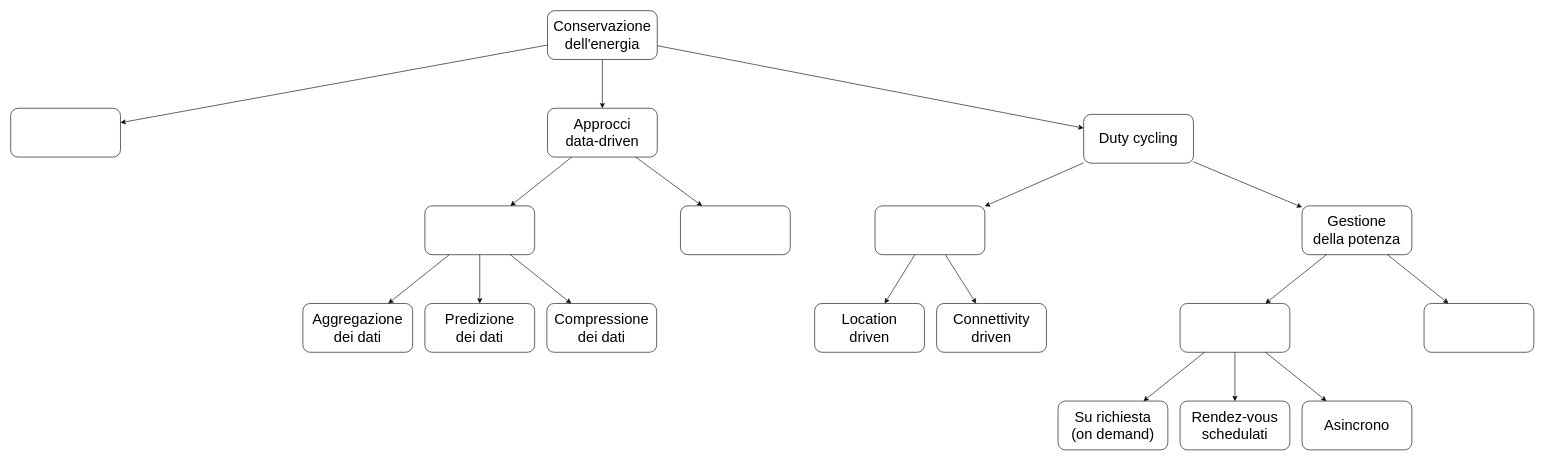
Some shapes in this 1545 by 461 pixel diagram are drawn without their labels. The shapes that lost their labels are listed below. From the top down, each one's centre as x and y in pixels, then its label:
At point (65, 132): "Basata sulla mobilità".
At point (479, 230): "Riduzione dei dati".
At point (735, 230): "Campionamento efficiente dal punto di vista energetico".
At point (929, 230): "Controllo della topologia".
At point (1234, 327): "Schemi generali di sleep/wakeup".
At point (1478, 327): "Low duty cycle MAC protocols".
